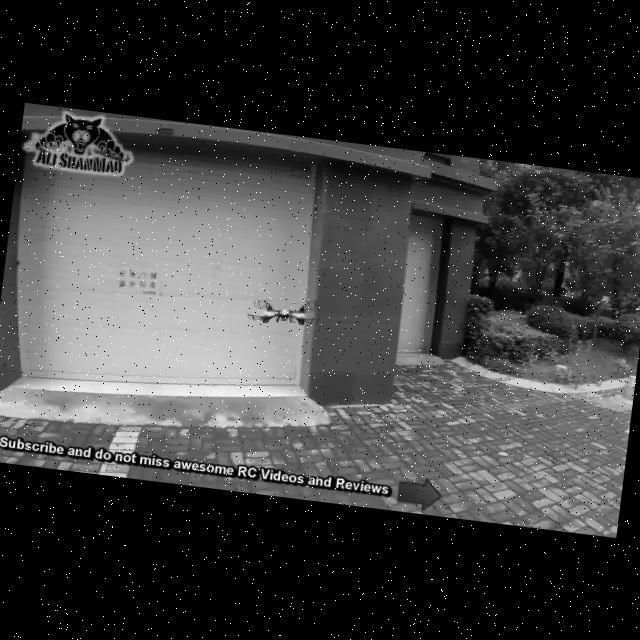Drons: (238, 283, 328, 338)
